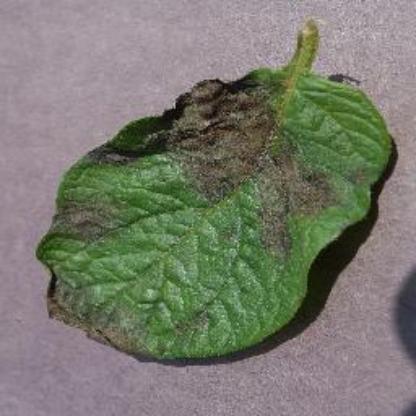Late-Blight: (9, 7, 404, 395)
